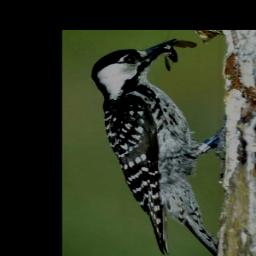Woodpecker: (92, 37, 227, 255)
